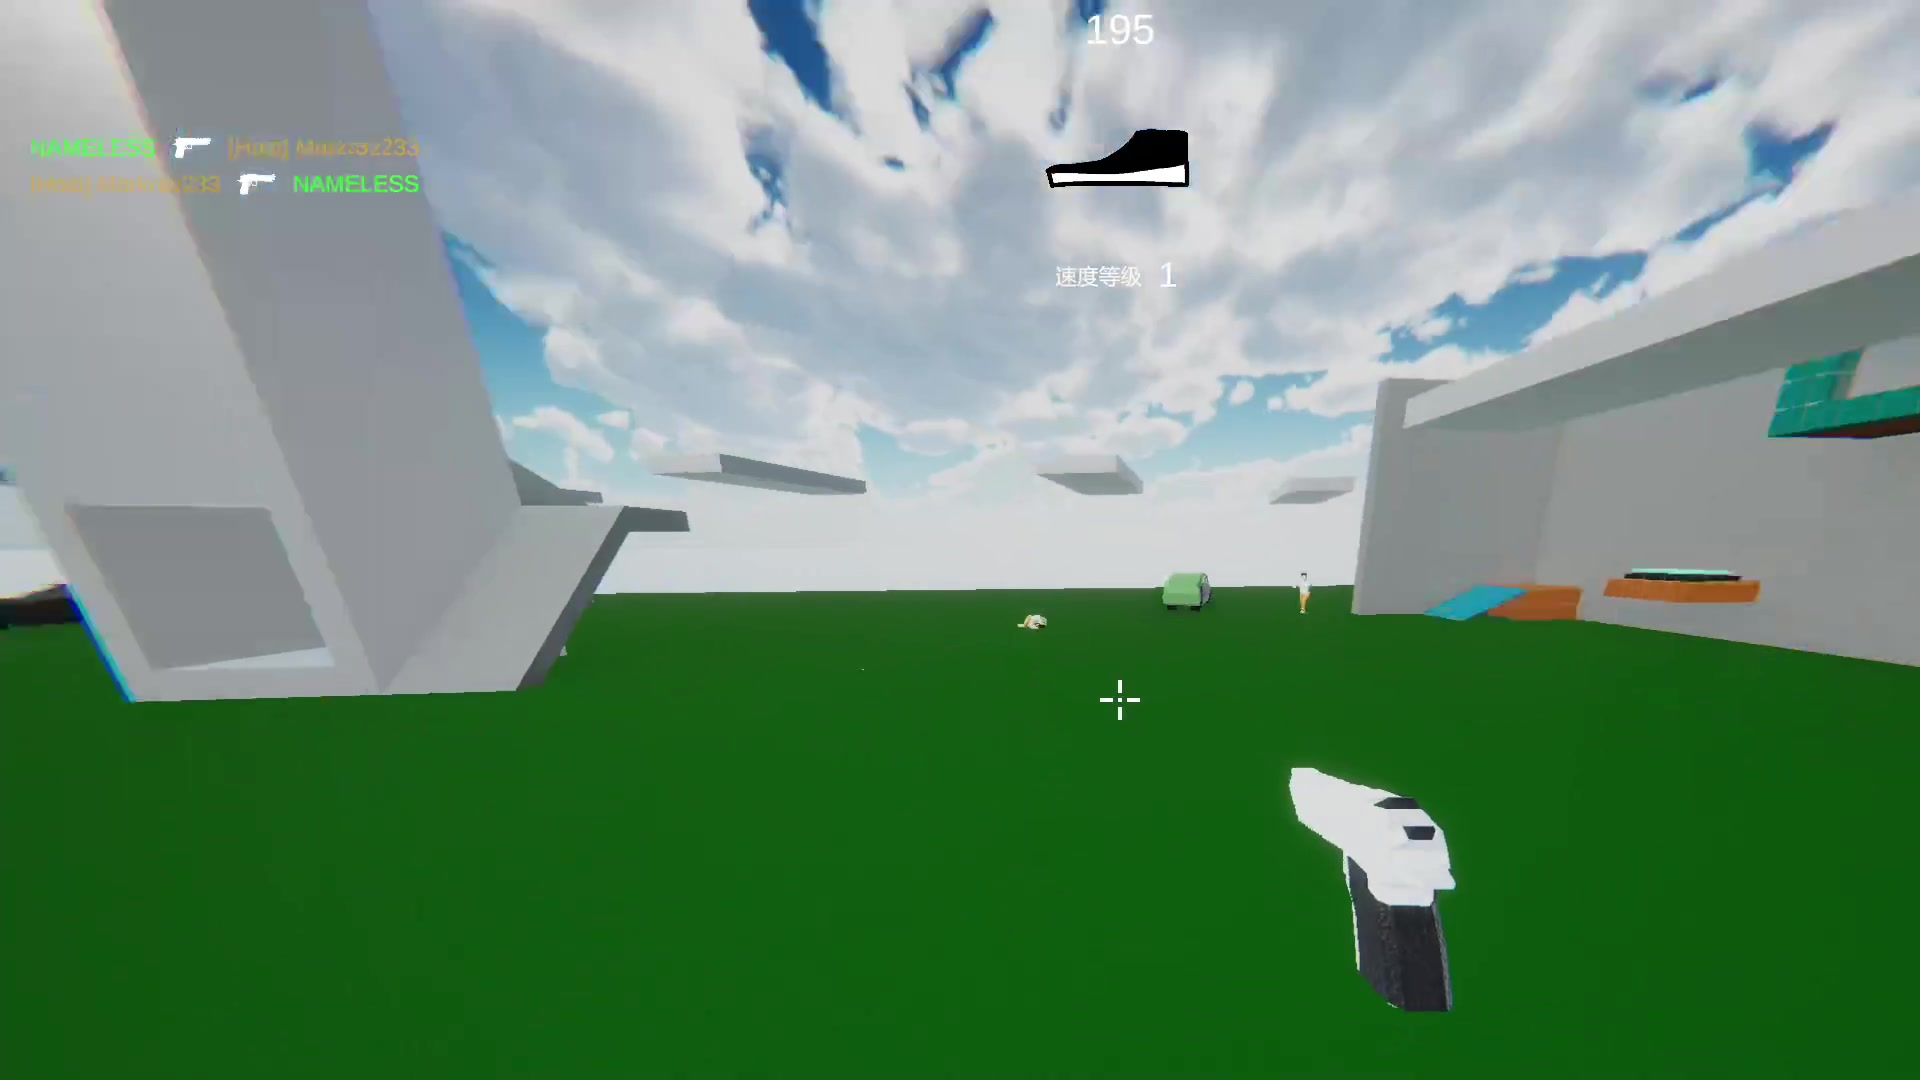died: (1016, 602, 1046, 629)
human: (1295, 565, 1309, 615)
